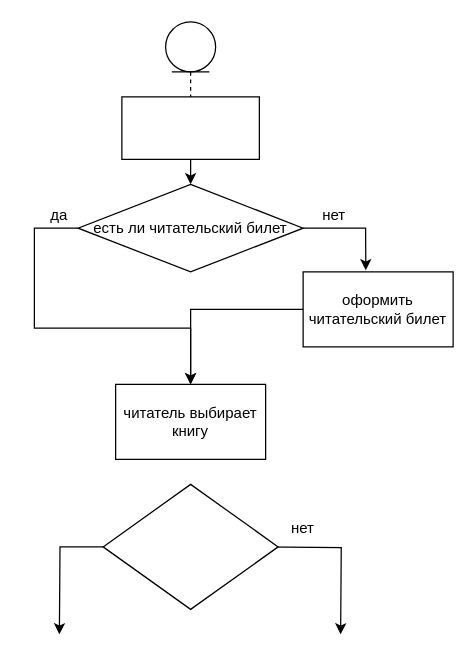
This 475x666 diagram has some shape labels left out. The centre of each missing label's shape, as x and y in pixels:
доступна ли книга ?: the point at 190,546
читатель проходит в библиотеку: the point at 190,127
